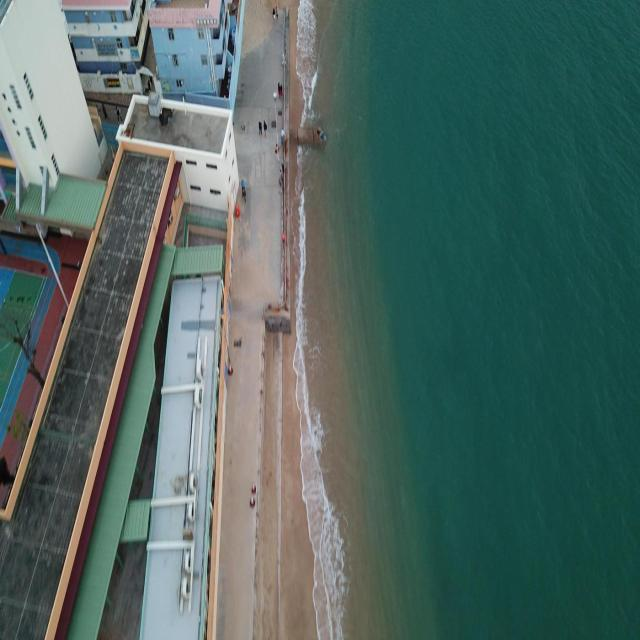person: (240, 178, 246, 201), (263, 120, 267, 138), (116, 106, 120, 122), (258, 120, 262, 135), (272, 6, 276, 20)
tree: (0, 291, 46, 390)
